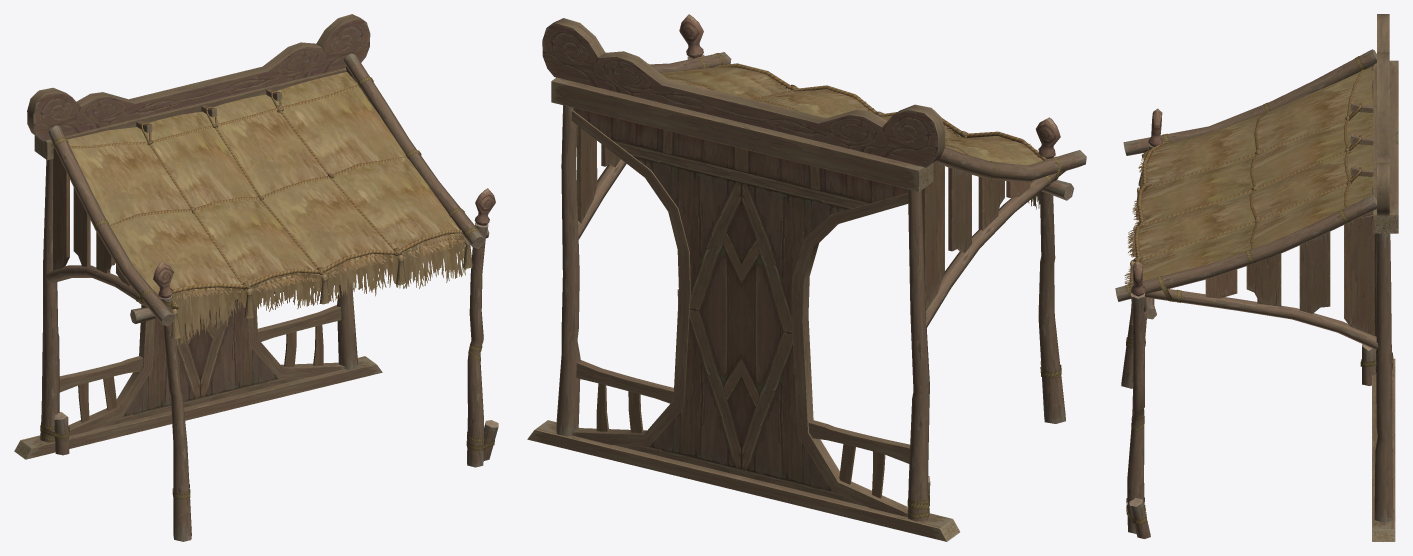
The model's file is Homeworld_Exterior_Xm_Build_Prop_Arhed_03_Lod0.fbx.
3 views of the same model, side by side, from view 1: azimuth 30°, elevation 25°; view 2: azimuth 150°, elevation 25°; view 3: azimuth 270°, elevation 25° (orthographic). The views are drawn at different scales.
Visible parts, largest first — view 1: Area_Xm_Prop_ARC_Pengzi_04_Lod0; view 2: Area_Xm_Prop_ARC_Pengzi_04_Lod0; view 3: Area_Xm_Prop_ARC_Pengzi_04_Lod0.
Part boxes in pixels (x1,y1,x2,y2): Area_Xm_Prop_ARC_Pengzi_04_Lod0: [14, 14, 498, 541]; Area_Xm_Prop_ARC_Pengzi_04_Lod0: [527, 14, 1086, 541]; Area_Xm_Prop_ARC_Pengzi_04_Lod0: [1115, 14, 1398, 541].
Size of the model in its own units: 6.55 by 6.26 by 4.44.
